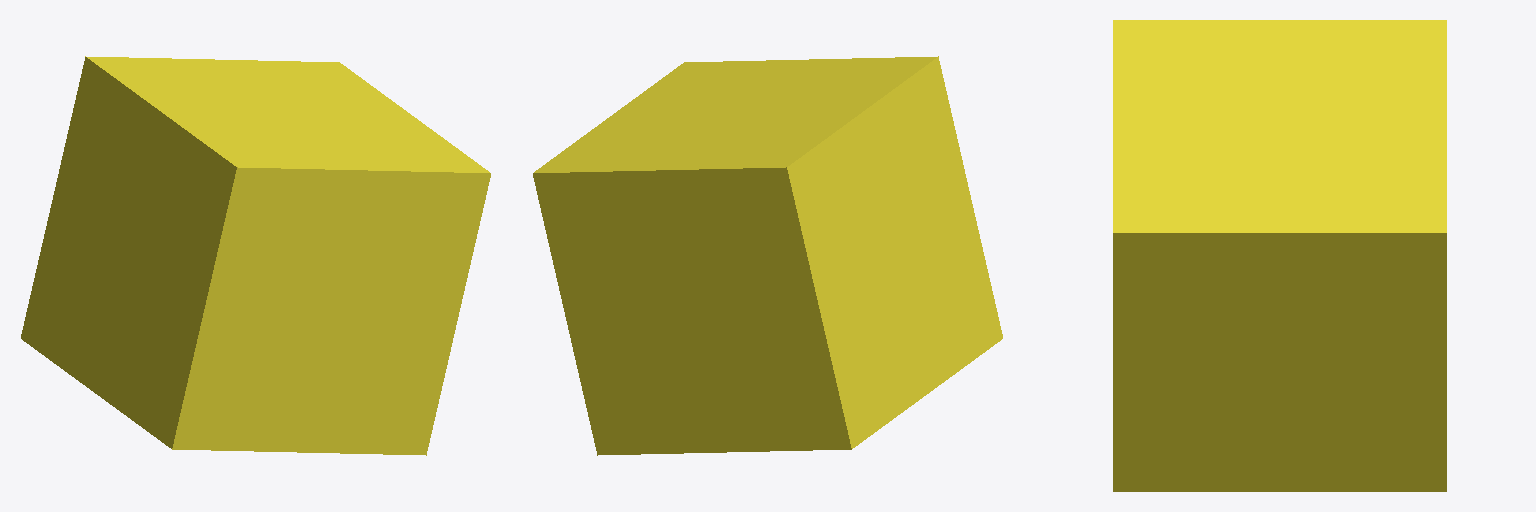
The robot description file, URDF, robot "robot":
<?xml version="1.0" ?>
<robot name="robot">
  <joint name="robot__left_wheel_hinge" type="continuous">
    <parent link="robot__chassis"/>
    <child link="robot__left_wheel"/>
    <origin rpy="0       0       1.57079" xyz="0.03     0.05125  0.03"/>
    <axis xyz="1  0  0"/>
    <limit effort="0" lower="0" upper="0" velocity="0"/>
  </joint>
  <joint name="robot__right_wheel_hinge" type="continuous">
    <parent link="robot__chassis"/>
    <child link="robot__right_wheel"/>
    <origin rpy="0       0       1.57079" xyz="0.03   -0.0595  0.03"/>
    <axis xyz="1  0  0"/>
    <limit effort="0" lower="0" upper="0" velocity="0"/>
  </joint>
  <joint name="robot__camera_joint" type="fixed">
    <parent link="robot__chassis"/>
    <child link="robot__camera_link"/>
    <origin rpy="0    0.25  0" xyz="0.055   0      0.0857"/>
    <axis xyz="0.96891  0       0.2474"/>
    <limit effort="0" lower="0" upper="0" velocity="0"/>
  </joint>
  <link name="robot__chassis">
    <inertial>
      <mass value="0"/>
      <origin rpy="0  0  0" xyz="0  0  0"/>
      <inertia ixx="0" ixy="0" ixz="0" iyy="0" iyz="0" izz="0"/>
    </inertial>
    <collision name="robot__collision">
      <origin rpy="1.57079  0       1.57079" xyz="0     0     0.043"/>
      <geometry>
        <mesh filename="package://jetbot_ros/gazebo/jetbot/meshes/JetBot-v3-Chassis.dae" scale="0.001 0.001 0.001"/>
      </geometry>
    </collision>
    <visual name="robot__visual">
      <origin rpy="1.57079  0       1.57079" xyz="0     0     0.043"/>
      <geometry>
        <mesh filename="package://jetbot_ros/gazebo/jetbot/meshes/JetBot-v3-Chassis.dae" scale="0.001 0.001 0.001"/>
      </geometry>
    </visual>
  </link>
  <link name="robot__left_wheel">
    <inertial>
      <mass value="0"/>
      <origin rpy="0  0  0" xyz="0  0  0"/>
      <inertia ixx="0" ixy="0" ixz="0" iyy="0" iyz="0" izz="0"/>
    </inertial>
    <collision name="robot__collision">
      <origin rpy="0  0  0" xyz="0  0  0"/>
      <geometry>
        <mesh filename="package://jetbot_ros/gazebo/jetbot/meshes/JetBot-v3-Wheel.stl" scale="0.001 0.001 0.001"/>
      </geometry>
    </collision>
    <visual name="robot__visual">
      <origin rpy="0  0  0" xyz="0  0  0"/>
      <geometry>
        <mesh filename="package://jetbot_ros/gazebo/jetbot/meshes/JetBot-v3-Wheel.stl" scale="0.001 0.001 0.001"/>
      </geometry>
    </visual>
  </link>
  <link name="robot__right_wheel">
    <inertial>
      <mass value="0"/>
      <origin rpy="0  0  0" xyz="0  0  0"/>
      <inertia ixx="0" ixy="0" ixz="0" iyy="0" iyz="0" izz="0"/>
    </inertial>
    <collision name="robot__collision">
      <origin rpy="0  0  0" xyz="0  0  0"/>
      <geometry>
        <mesh filename="package://jetbot_ros/gazebo/jetbot/meshes/JetBot-v3-Wheel.stl" scale="0.001 0.001 0.001"/>
      </geometry>
    </collision>
    <visual name="robot__visual">
      <origin rpy="0  0  0" xyz="0  0  0"/>
      <geometry>
        <mesh filename="package://jetbot_ros/gazebo/jetbot/meshes/JetBot-v3-Wheel.stl" scale="0.001 0.001 0.001"/>
      </geometry>
    </visual>
  </link>
  <link name="robot__camera_link">
    <inertial>
      <mass value="0.1"/>
      <origin rpy="0  0  0" xyz="0  0  0"/>
      <inertia ixx="0" ixy="0" ixz="0" iyy="0" iyz="0" izz="0"/>
    </inertial>
    <visual name="robot__visual">
      <origin rpy="0  0  0" xyz="0  0  0"/>
      <geometry>
        <box size="0.001 0.001 0.001"/>
      </geometry>
    </visual>
  </link>
</robot>

--- Render facts (derived) ---
Views: 3 orthographic renders of the robot side by side, from view 1: azimuth 30°, elevation 25°; view 2: azimuth 150°, elevation 25°; view 3: azimuth 270°, elevation 25°.
Robot: robot — 4 links, 3 joints (2 continuous, 1 fixed); root link robot__chassis; default pose: every joint at zero.
Visible links, largest first — view 1: robot__camera_link; view 2: robot__camera_link; view 3: robot__camera_link.
Boxes of the visible links, x1=… form: robot__camera_link: x1=21, y1=56, x2=490, y2=455; robot__camera_link: x1=533, y1=56, x2=1002, y2=455; robot__camera_link: x1=1113, y1=20, x2=1446, y2=491.
Size in the robot's own frame: 0.0012 by 0.001 by 0.0012 metres.
Meshes: 2 distinct files referenced, 0 mesh visuals loaded (none loaded); not drawn: 3 (reference not matched to a file when rendering).